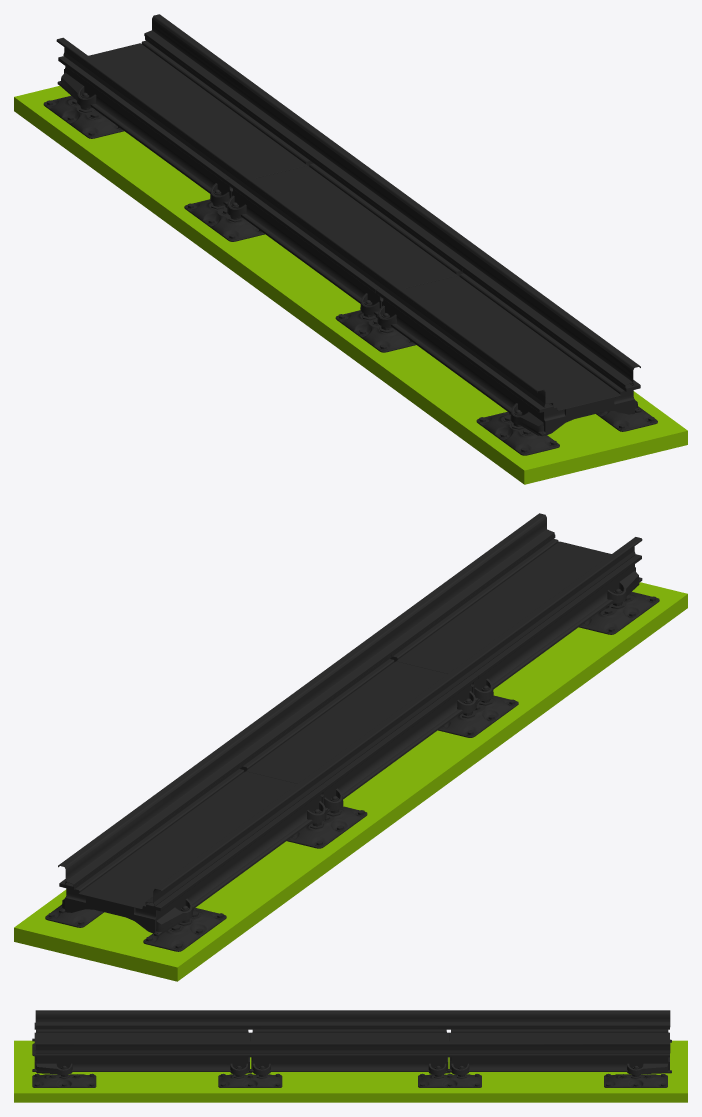
Rendered from LFAM1RobotRail.glb.
The picture shows the model from 3 angles, top to bottom: view 1: azimuth 30°, elevation 25°; view 2: azimuth 150°, elevation 25°; view 3: azimuth 270°, elevation 25°; orthographic projection. The views are drawn at different scales.
Visible parts, largest first — view 1: Rails, kuka rail; view 2: Rails, kuka rail; view 3: Rails, kuka rail.
Part boxes in pixels (bbox=[...]): Rails: bbox=[43, 14, 657, 455]; kuka rail: bbox=[14, 85, 687, 484]; Rails: bbox=[45, 513, 659, 951]; kuka rail: bbox=[14, 582, 687, 981]; Rails: bbox=[32, 1010, 671, 1087]; kuka rail: bbox=[14, 1040, 687, 1102].
Size of the model in its own units: 1.22 by 0.5321 by 6.61.
